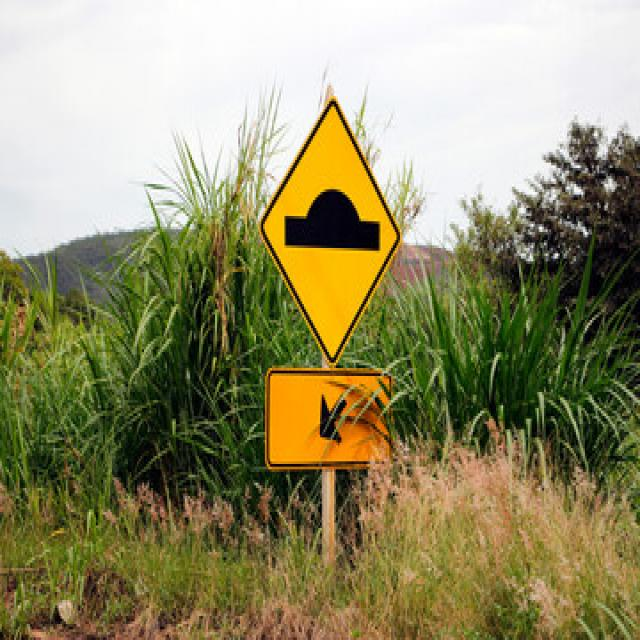hump: (260, 97, 404, 367)
